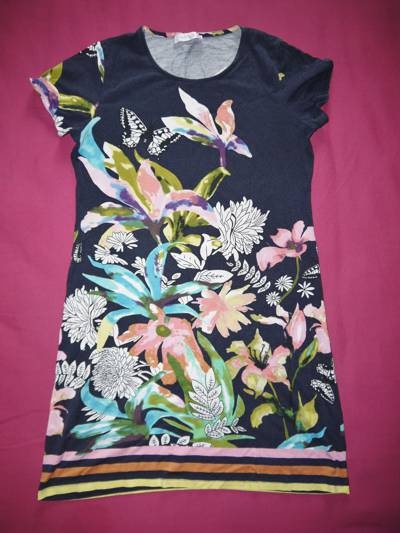Dress: (22, 15, 365, 509)
